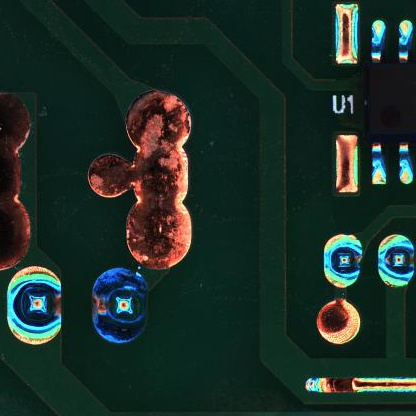spot: (89, 267, 150, 344), (6, 264, 63, 346), (375, 234, 416, 291), (323, 233, 363, 288)
